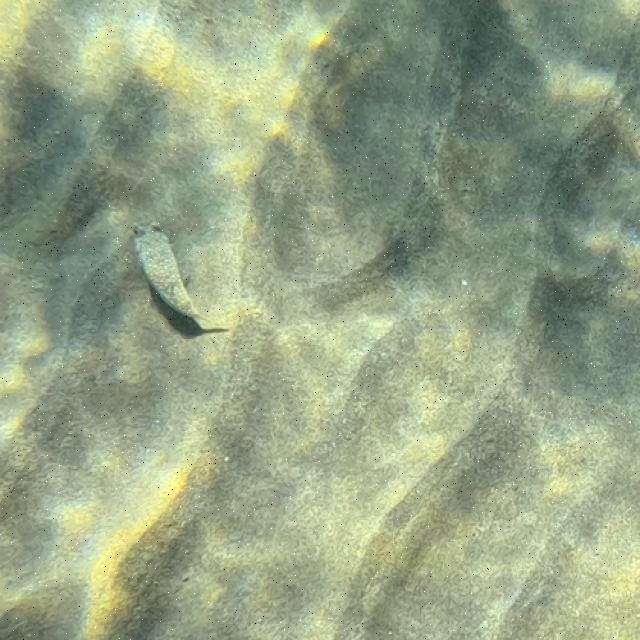Balik: (132, 224, 225, 331)
